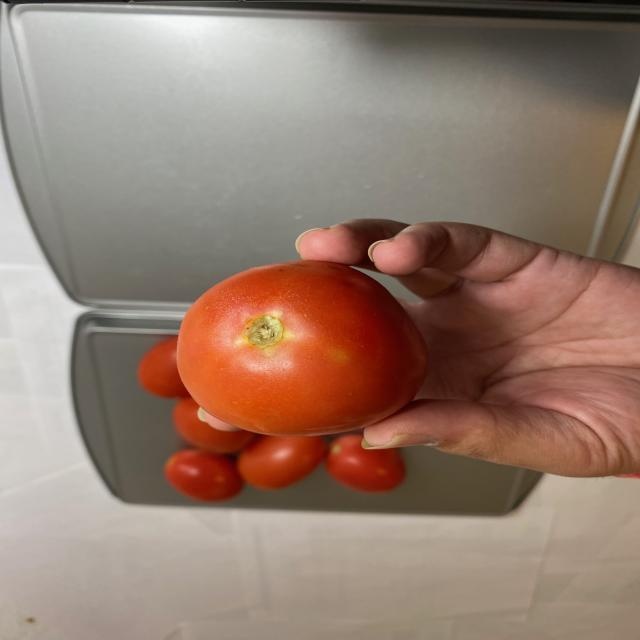tomato: (168, 264, 432, 436)
